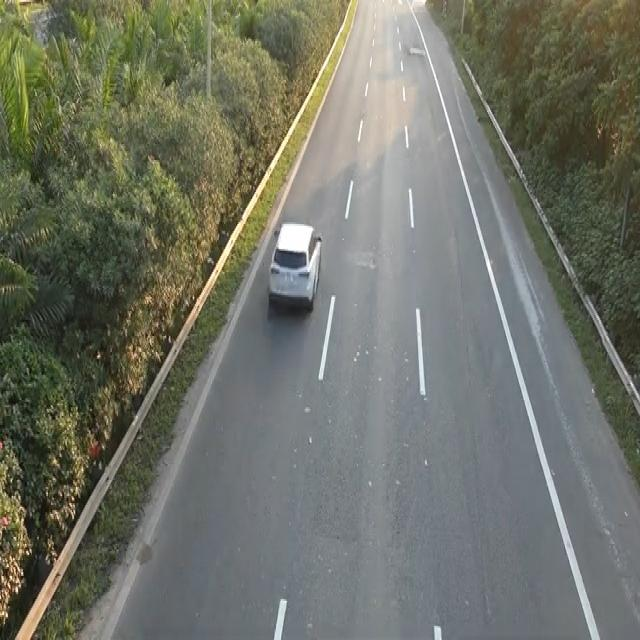car: (266, 217, 323, 313)
